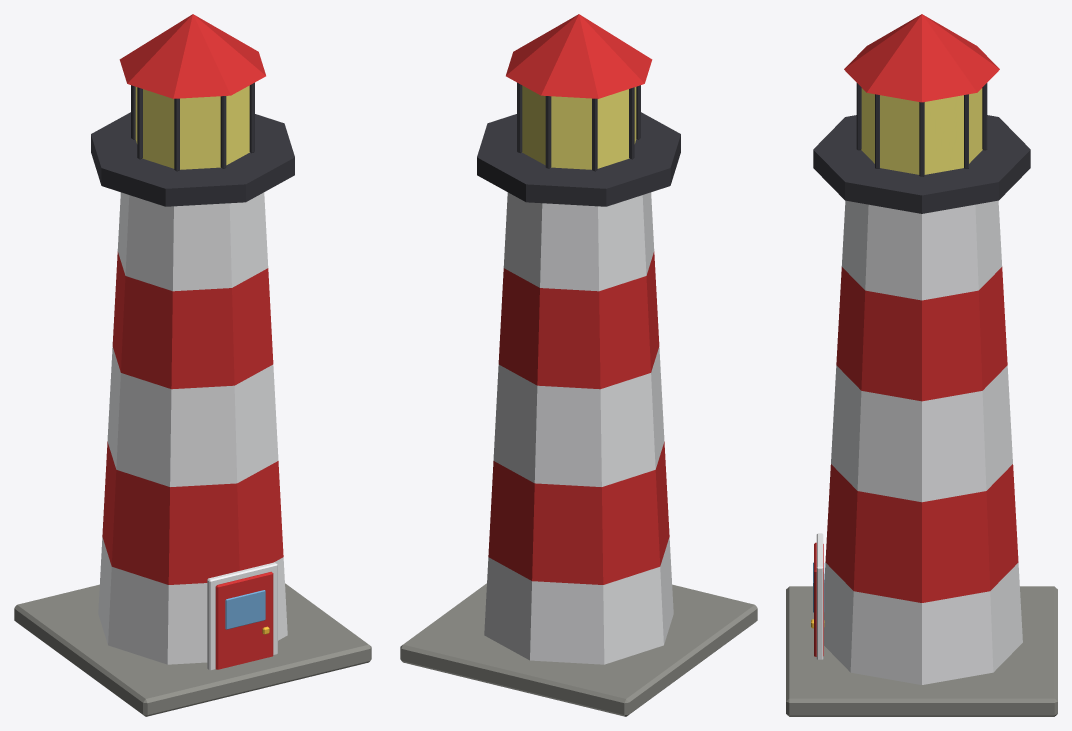
The model's file is Lighthouse.fbx.
3 renders of one model, left to right at view 1: azimuth 30°, elevation 25°; view 2: azimuth 150°, elevation 25°; view 3: azimuth 270°, elevation 25°, orthographic. The views are drawn at different scales.
Visible parts, largest first — view 1: Lighthouse; view 2: Lighthouse; view 3: Lighthouse.
Part boxes in pixels (x1,y1,x2,y2): Lighthouse: [14, 14, 371, 716]; Lighthouse: [400, 14, 757, 716]; Lighthouse: [786, 14, 1057, 716].
Bounding box in the file's own units: 8 × 21 × 8.
Materials: 1 (1 with a texture image).
